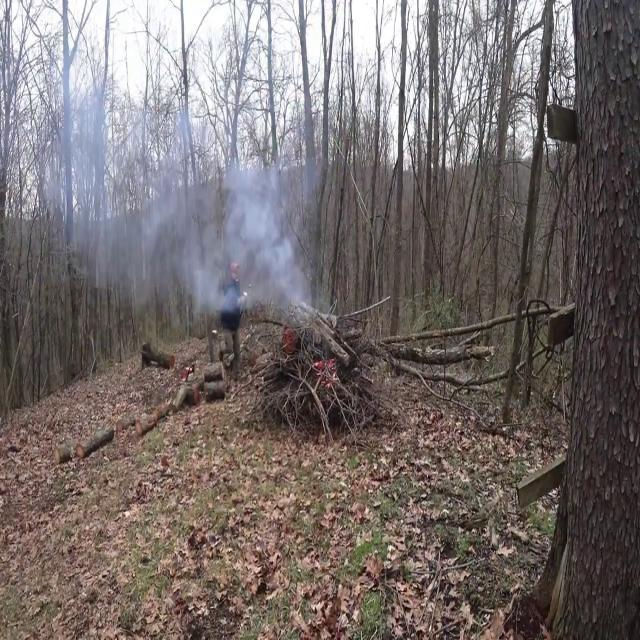Smoke: (74, 128, 319, 326)
